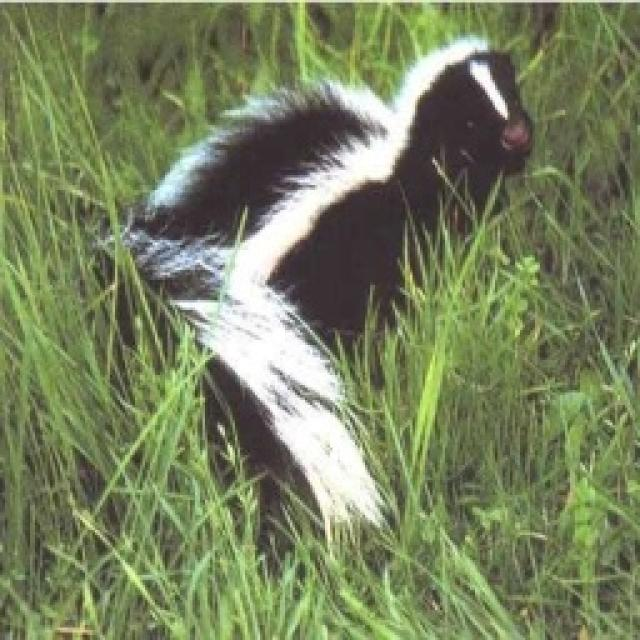not_pig: (99, 36, 540, 558)
